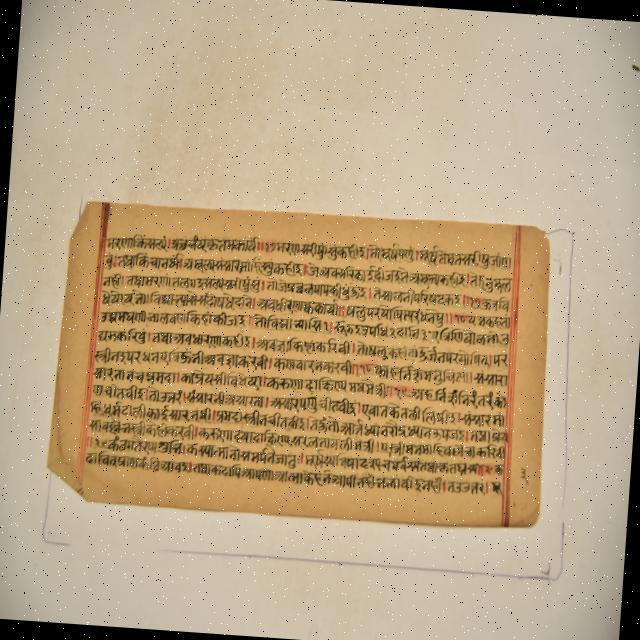text_paragraph: (53, 201, 545, 521)
